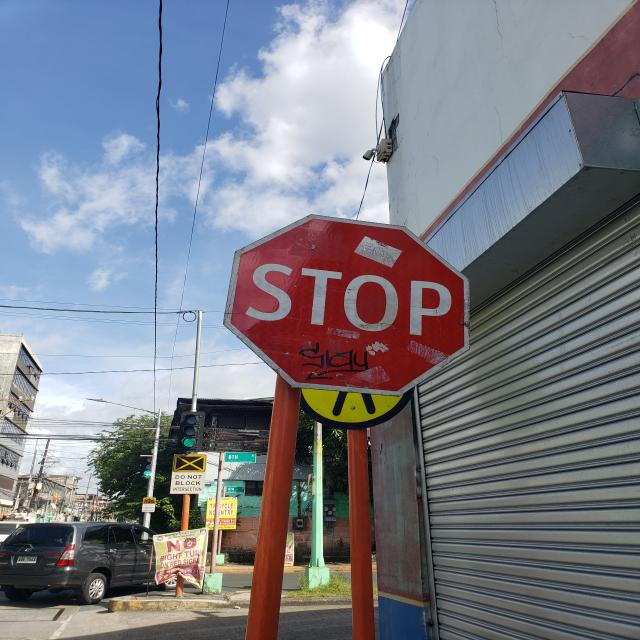stop-sign: (222, 213, 470, 397)
